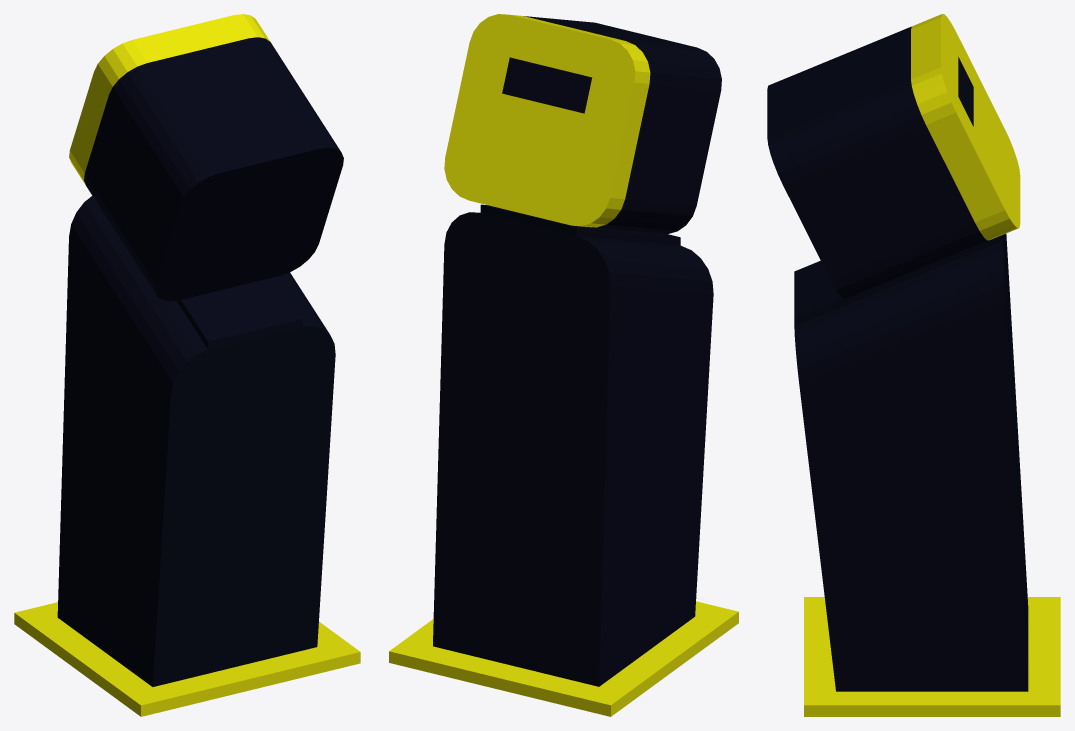
Rendered from EndGame_InvestMachine.fbx.
The picture shows the model from 3 angles, left to right: view 1: azimuth 30°, elevation 25°; view 2: azimuth 150°, elevation 25°; view 3: azimuth 270°, elevation 25°; orthographic projection.
Parts seen in each view (by area): view 1: InvestMachine; view 2: InvestMachine; view 3: InvestMachine.
Boxes of the visible parts, box(x1,y1,x2,y2) form: InvestMachine: box(14, 14, 360, 716); InvestMachine: box(389, 14, 738, 716); InvestMachine: box(767, 14, 1060, 716).
Bounding box in the file's own units: 400 × 1067 × 457.
